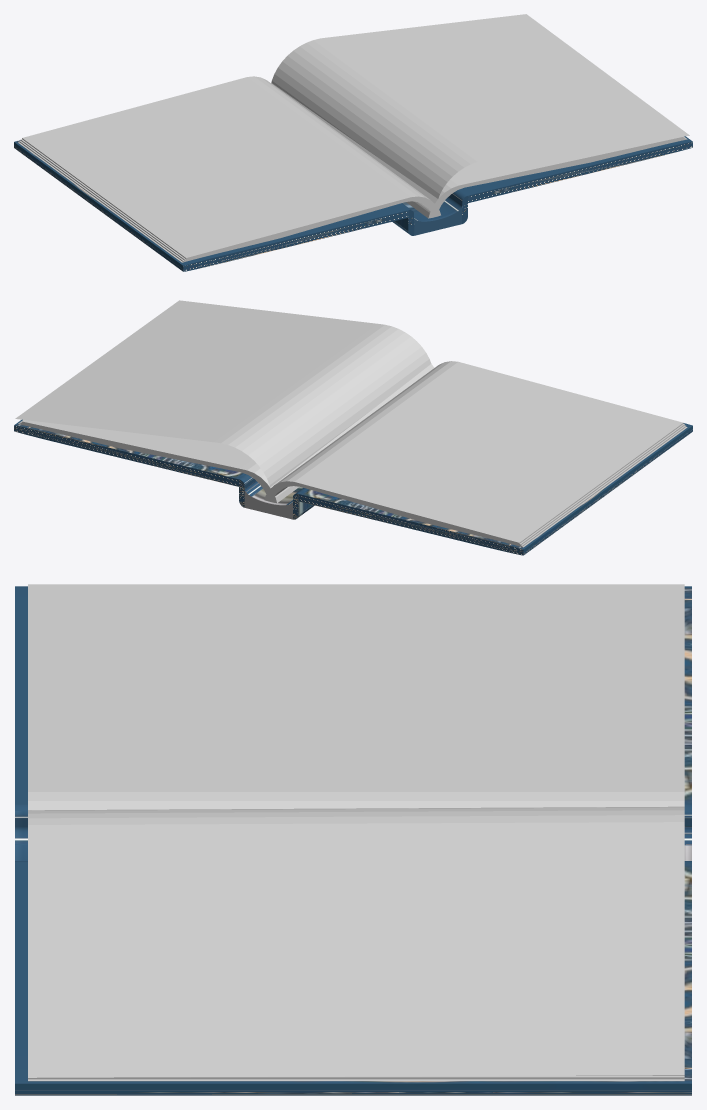
Rendered from spellbook_lowpoly.glb.
3 views of the same model, one above another, from view 1: azimuth 30°, elevation 25°; view 2: azimuth 150°, elevation 25°; view 3: azimuth 270°, elevation 25° (orthographic). The views are drawn at different scales.
Parts seen in each view (by area): view 1: Plane.001, Plane, Cube; view 2: Plane.001, Plane, Cube; view 3: Plane, Plane.001, Cube.
Boxes of the visible parts, box(x1,y1,x2,y2) form: Plane.001: box(18, 76, 687, 262); Plane: box(271, 14, 689, 198); Cube: box(14, 136, 692, 271); Plane.001: box(18, 361, 687, 547); Plane: box(15, 300, 431, 487); Cube: box(14, 419, 692, 555); Plane: box(28, 806, 684, 1077); Plane.001: box(28, 584, 684, 1081); Cube: box(15, 586, 691, 1095).
Size of the model in its own units: 3.24 by 0.3451 by 1.86.
2 materials, 1 textured.
